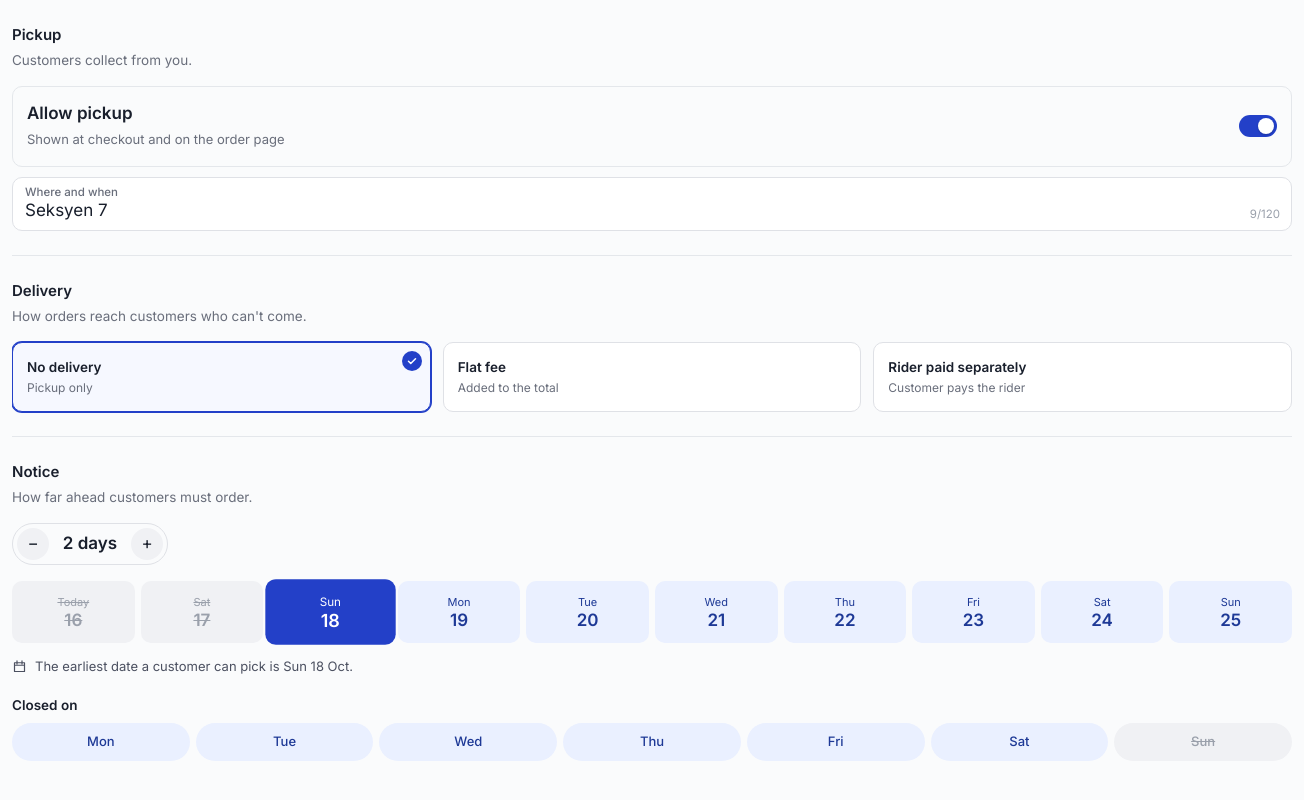
Test: DeliveryTab, pickup › turns pickup off at once
Click the switch named "Allow pickup".
click(1258, 126)  # box [1239,115,1277,137]
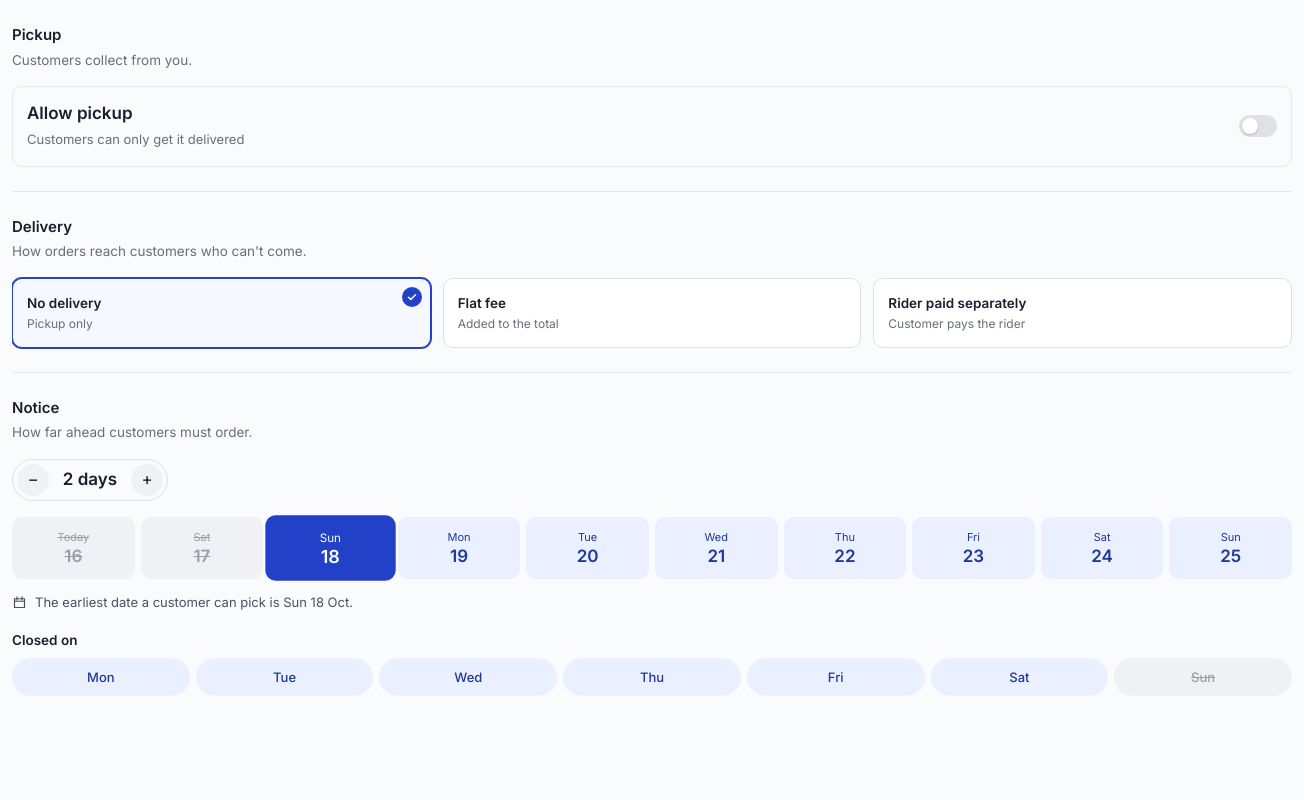
Check: the text labelled "Where and when" is gone
